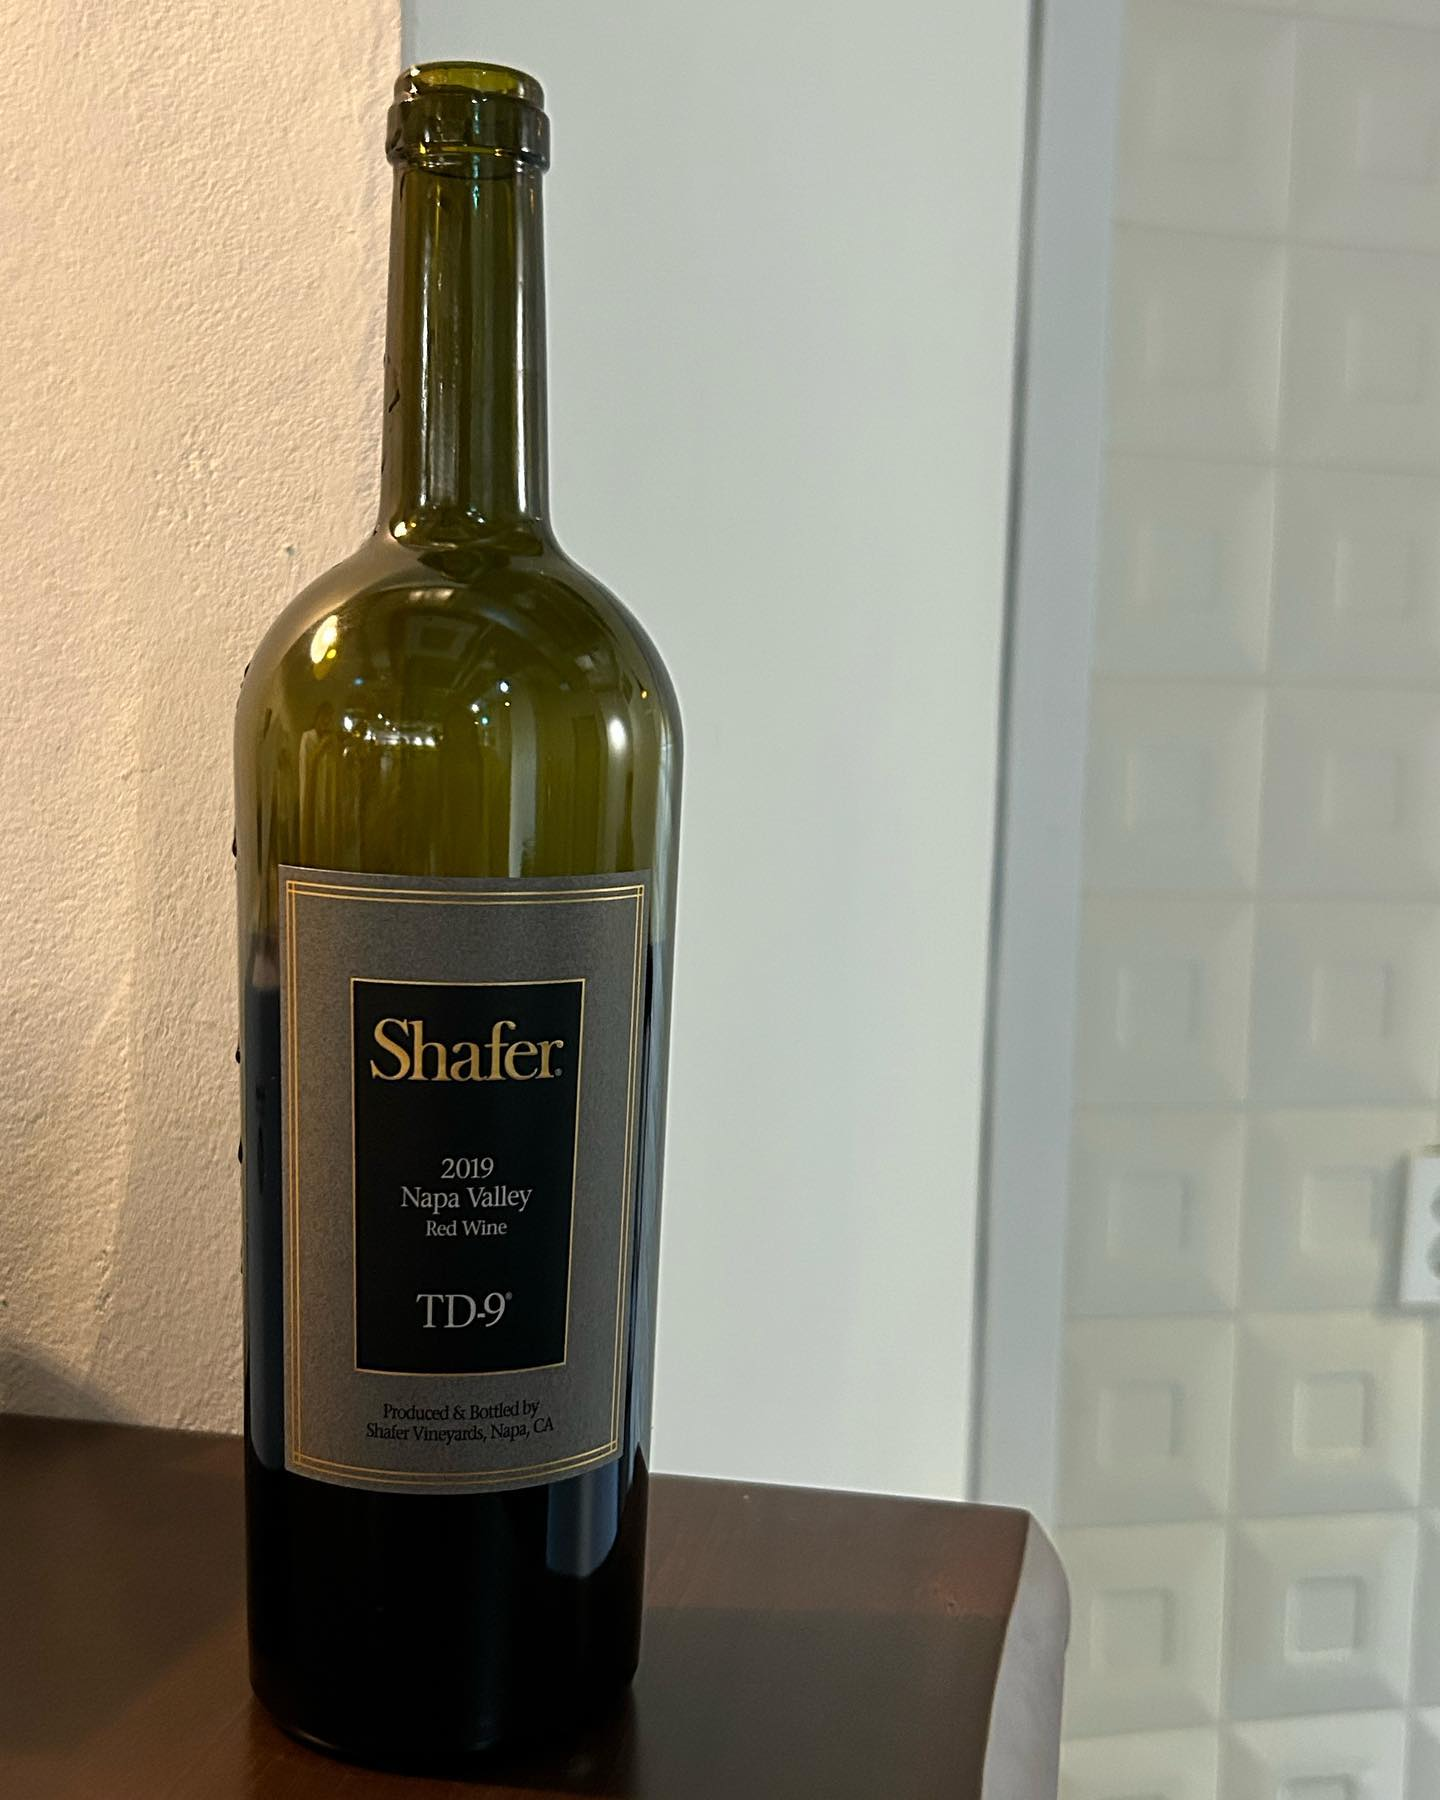alcohol: (220, 47, 695, 1787)
